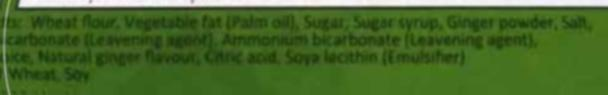ingredients: (0, 8, 608, 85)
